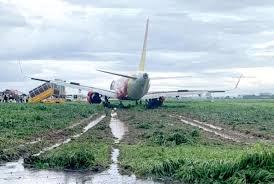maybay_dansu: (36, 36, 244, 105)
